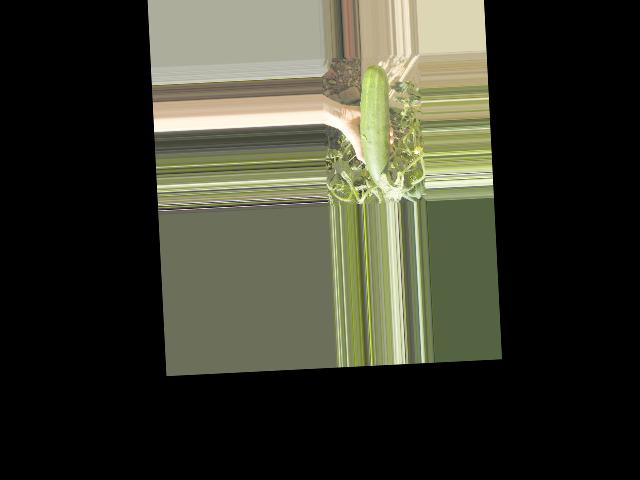cucumber: (357, 63, 393, 187)
